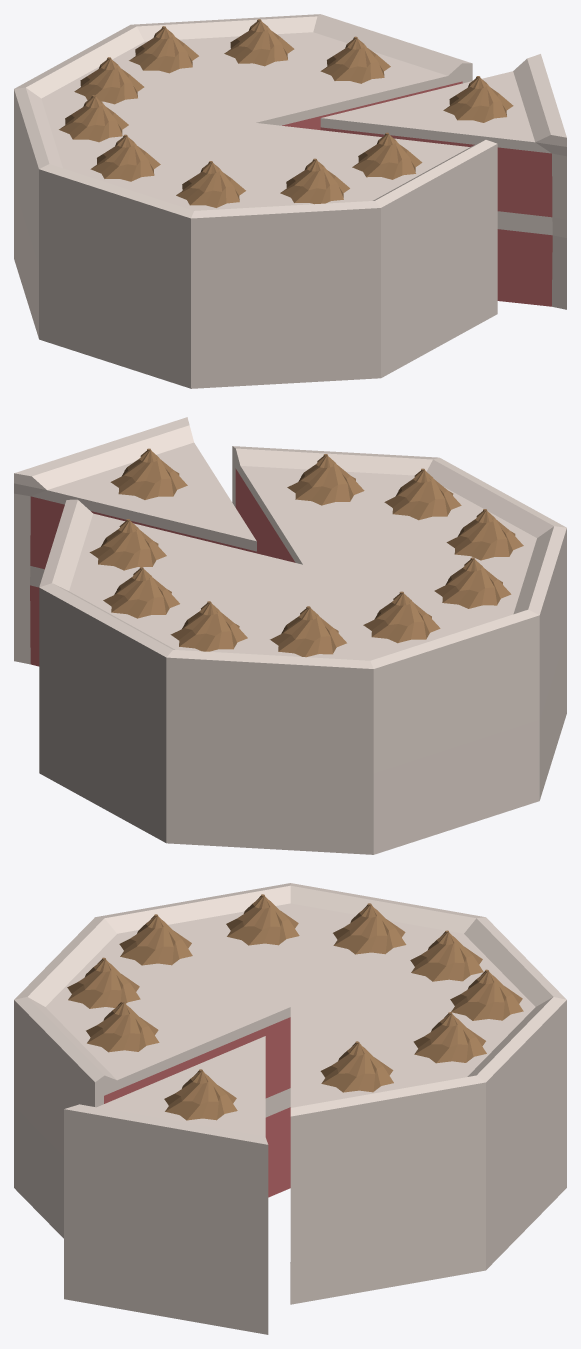
Rendered from Cake_Asin-Asam_SourCherryAlmond-Cake .fbx.
The picture shows the model from 3 angles, top to bottom: view 1: azimuth 30°, elevation 25°; view 2: azimuth 150°, elevation 25°; view 3: azimuth 270°, elevation 25°; orthographic projection. The views are drawn at different scales.
Visible parts, largest first — view 1: Cylinder, Cylinder.001, Cylinder.007, Cylinder.004, Cylinder.002, Cylinder.009, Cylinder.010, Cylinder.006, Cylinder.003, Cylinder.008, Cylinder.005, Cylinder.011; view 2: Cylinder, Cylinder.001, Cylinder.003, Cylinder.002, Cylinder.007, Cylinder.010, Cylinder.005, Cylinder.011, Cylinder.004, Cylinder.006, Cylinder.009, Cylinder.008; view 3: Cylinder, Cylinder.001, Cylinder.010, Cylinder.004, Cylinder.008, Cylinder.009, Cylinder.003, Cylinder.007, Cylinder.011, Cylinder.002, Cylinder.006, Cylinder.005.
Boxes of the visible parts, left/top/right/bottom form: Cylinder: left=14, top=14, right=497, bottom=388; Cylinder.001: left=320, top=54, right=566, bottom=309; Cylinder.007: left=443, top=76, right=513, bottom=122; Cylinder.004: left=176, top=161, right=245, bottom=207; Cylinder.002: left=59, top=95, right=128, bottom=142; Cylinder.009: left=224, top=19, right=294, bottom=66; Cylinder.010: left=129, top=26, right=198, bottom=73; Cylinder.006: left=352, top=132, right=422, bottom=179; Cylinder.003: left=90, top=134, right=160, bottom=181; Cylinder.008: left=320, top=36, right=390, bottom=83; Cylinder.005: left=280, top=158, right=349, bottom=204; Cylinder.011: left=74, top=57, right=144, bottom=104; Cylinder: left=39, top=446, right=566, bottom=854; Cylinder.001: left=14, top=417, right=256, bottom=666; Cylinder.003: left=434, top=557, right=511, bottom=608; Cylinder.002: left=363, top=591, right=440, bottom=643; Cylinder.007: left=110, top=448, right=187, bottom=499; Cylinder.010: left=170, top=601, right=247, bottom=651; Cylinder.005: left=384, top=468, right=461, bottom=520; Cylinder.011: left=270, top=606, right=346, bottom=657; Cylinder.004: left=446, top=509, right=523, bottom=560; Cylinder.006: left=287, top=454, right=364, bottom=505; Cylinder.009: left=103, top=567, right=179, bottom=618; Cylinder.008: left=89, top=519, right=166, bottom=570; Cylinder: left=14, top=883, right=566, bottom=1304; Cylinder.001: left=64, top=1036, right=268, bottom=1334; Cylinder.010: left=450, top=969, right=523, bottom=1020; Cylinder.004: left=119, top=914, right=192, bottom=965; Cylinder.008: left=320, top=1041, right=393, bottom=1092; Cylinder.009: left=413, top=1012, right=486, bottom=1063; Cylinder.003: left=226, top=894, right=299, bottom=945; Cylinder.007: left=164, top=1069, right=237, bottom=1120; Cylinder.011: left=410, top=930, right=483, bottom=981; Cylinder.002: left=333, top=903, right=406, bottom=954; Cylinder.006: left=86, top=1001, right=159, bottom=1052; Cylinder.005: left=67, top=957, right=140, bottom=1008.
Size of the model in its own units: 372 by 141 by 328.
